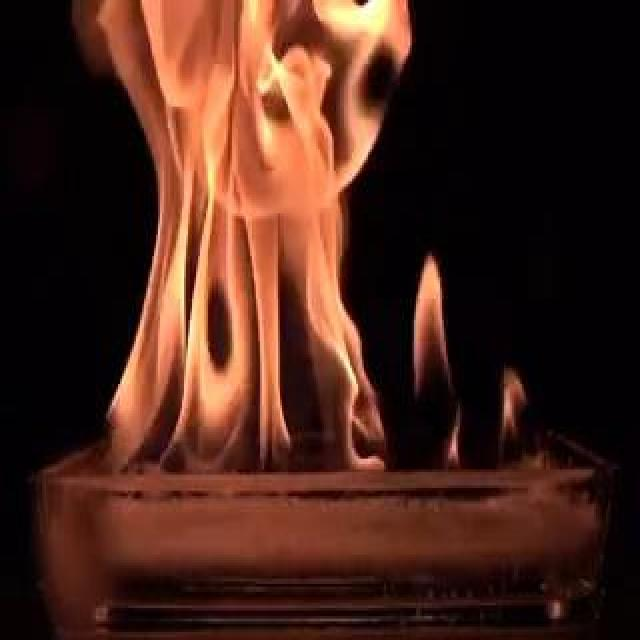Fire: (77, 2, 545, 466)
